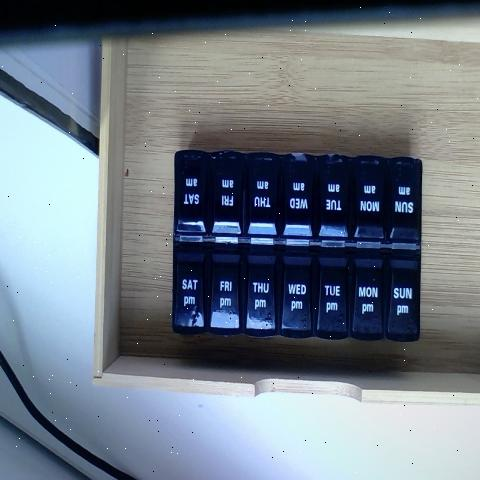FRI-am: (213, 154, 246, 242)
FRI-pm: (211, 244, 246, 335)
MON-am: (353, 157, 388, 244)
MON-pm: (354, 254, 386, 344)
SAT-am: (175, 155, 213, 241)
SAT-pm: (176, 244, 210, 335)
SUN-am: (389, 161, 421, 247)
SUN-pm: (386, 253, 419, 343)
THU-am: (248, 153, 284, 245)
THU-pm: (247, 248, 281, 339)
TUE-am: (319, 156, 354, 244)
TUE-pm: (318, 249, 351, 341)
WED-am: (285, 152, 318, 247)
WED-pm: (283, 248, 315, 338)
